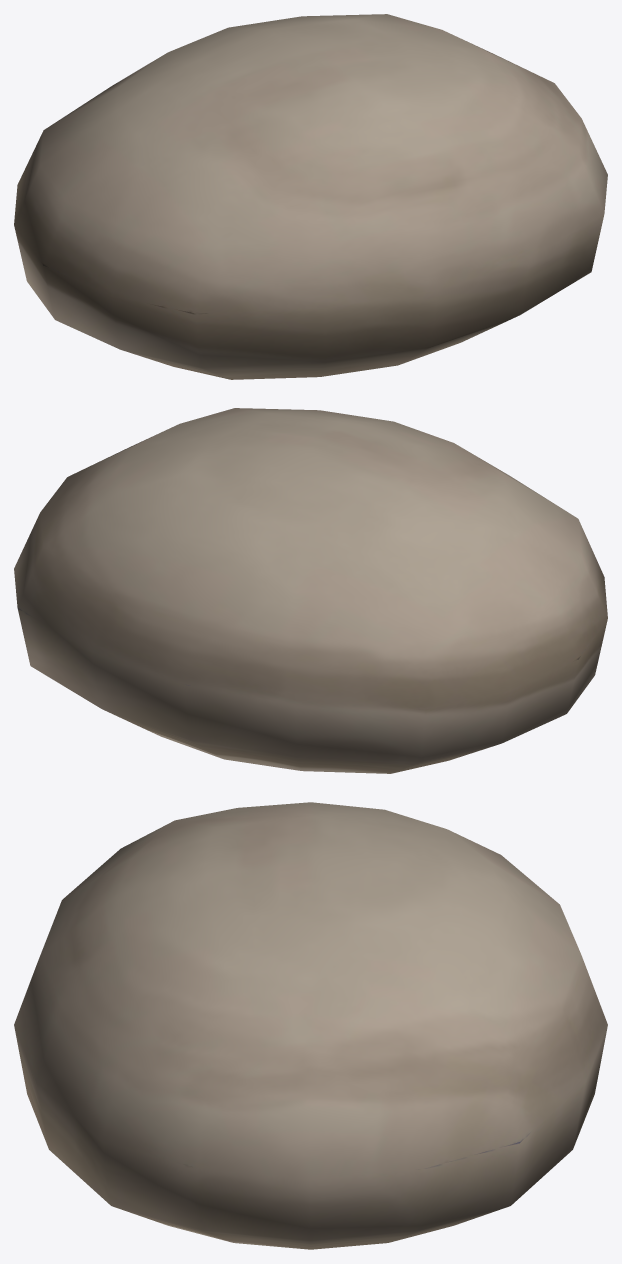
The model's file is cloud_model.glb.
3 renders of one model, top to bottom at view 1: azimuth 30°, elevation 25°; view 2: azimuth 150°, elevation 25°; view 3: azimuth 270°, elevation 25°, orthographic. The views are drawn at different scales.
Parts seen in each view (by area): view 1: cloud_t9; view 2: cloud_t9; view 3: cloud_t9.
Boxes of the visible parts, x1,y1,x2,y2 form: cloud_t9: (14,14,607,379); cloud_t9: (14,408,607,773); cloud_t9: (14,802,607,1249).
Bounding box in the file's own units: 10.26 × 4.83 × 8.41.
1 material, 1 textured.
